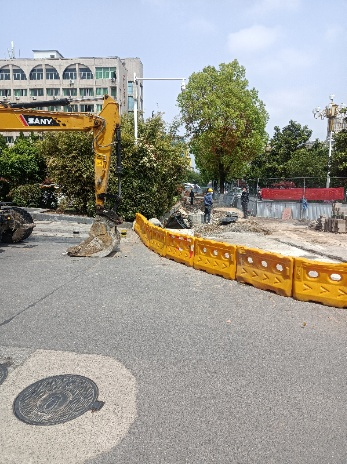good: (12, 374, 105, 426)
